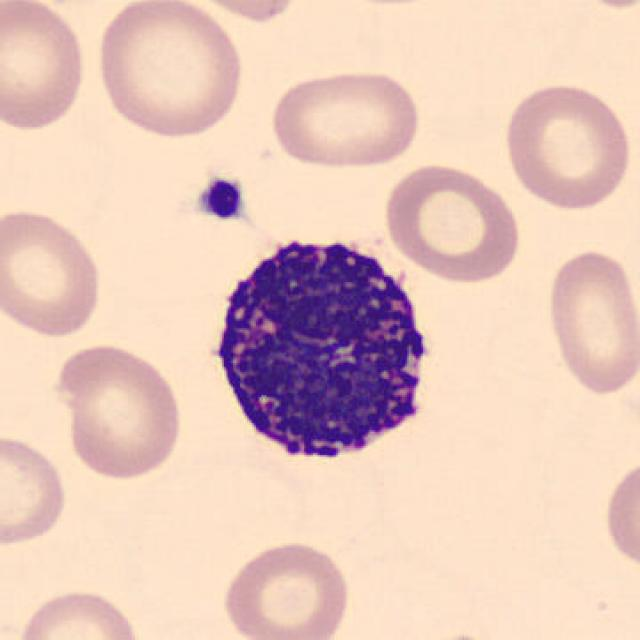Basophil: (196, 218, 446, 480)
Platelets: (194, 175, 247, 222), (414, 631, 505, 640)
RBC: (91, 0, 249, 141), (52, 339, 186, 483), (378, 158, 524, 286), (498, 78, 633, 214), (265, 65, 423, 173), (540, 244, 638, 401), (0, 204, 107, 340), (217, 536, 354, 640), (0, 0, 91, 134), (0, 430, 71, 550), (12, 585, 146, 640), (599, 453, 640, 575), (179, 0, 313, 25), (560, 0, 640, 12)
